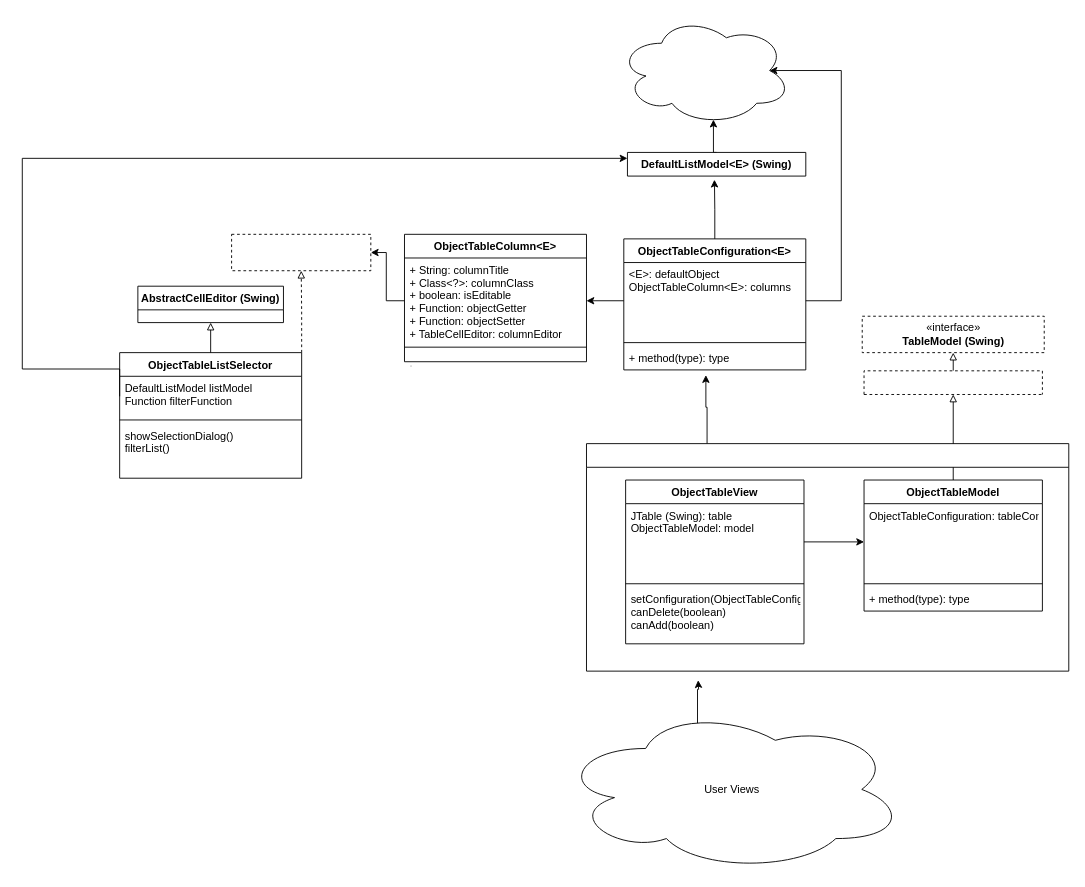
This 1085x887 diagram has some shape labels left out. Each missing label, with the box of its shape:
AbstractTableModel (Swing): (863, 370, 1042, 394)
Core Classes <E>: (617, 15, 791, 125)
ObjectTable: (586, 443, 1069, 671)
«interface» TableCellEditor (Swing): (231, 233, 371, 271)
